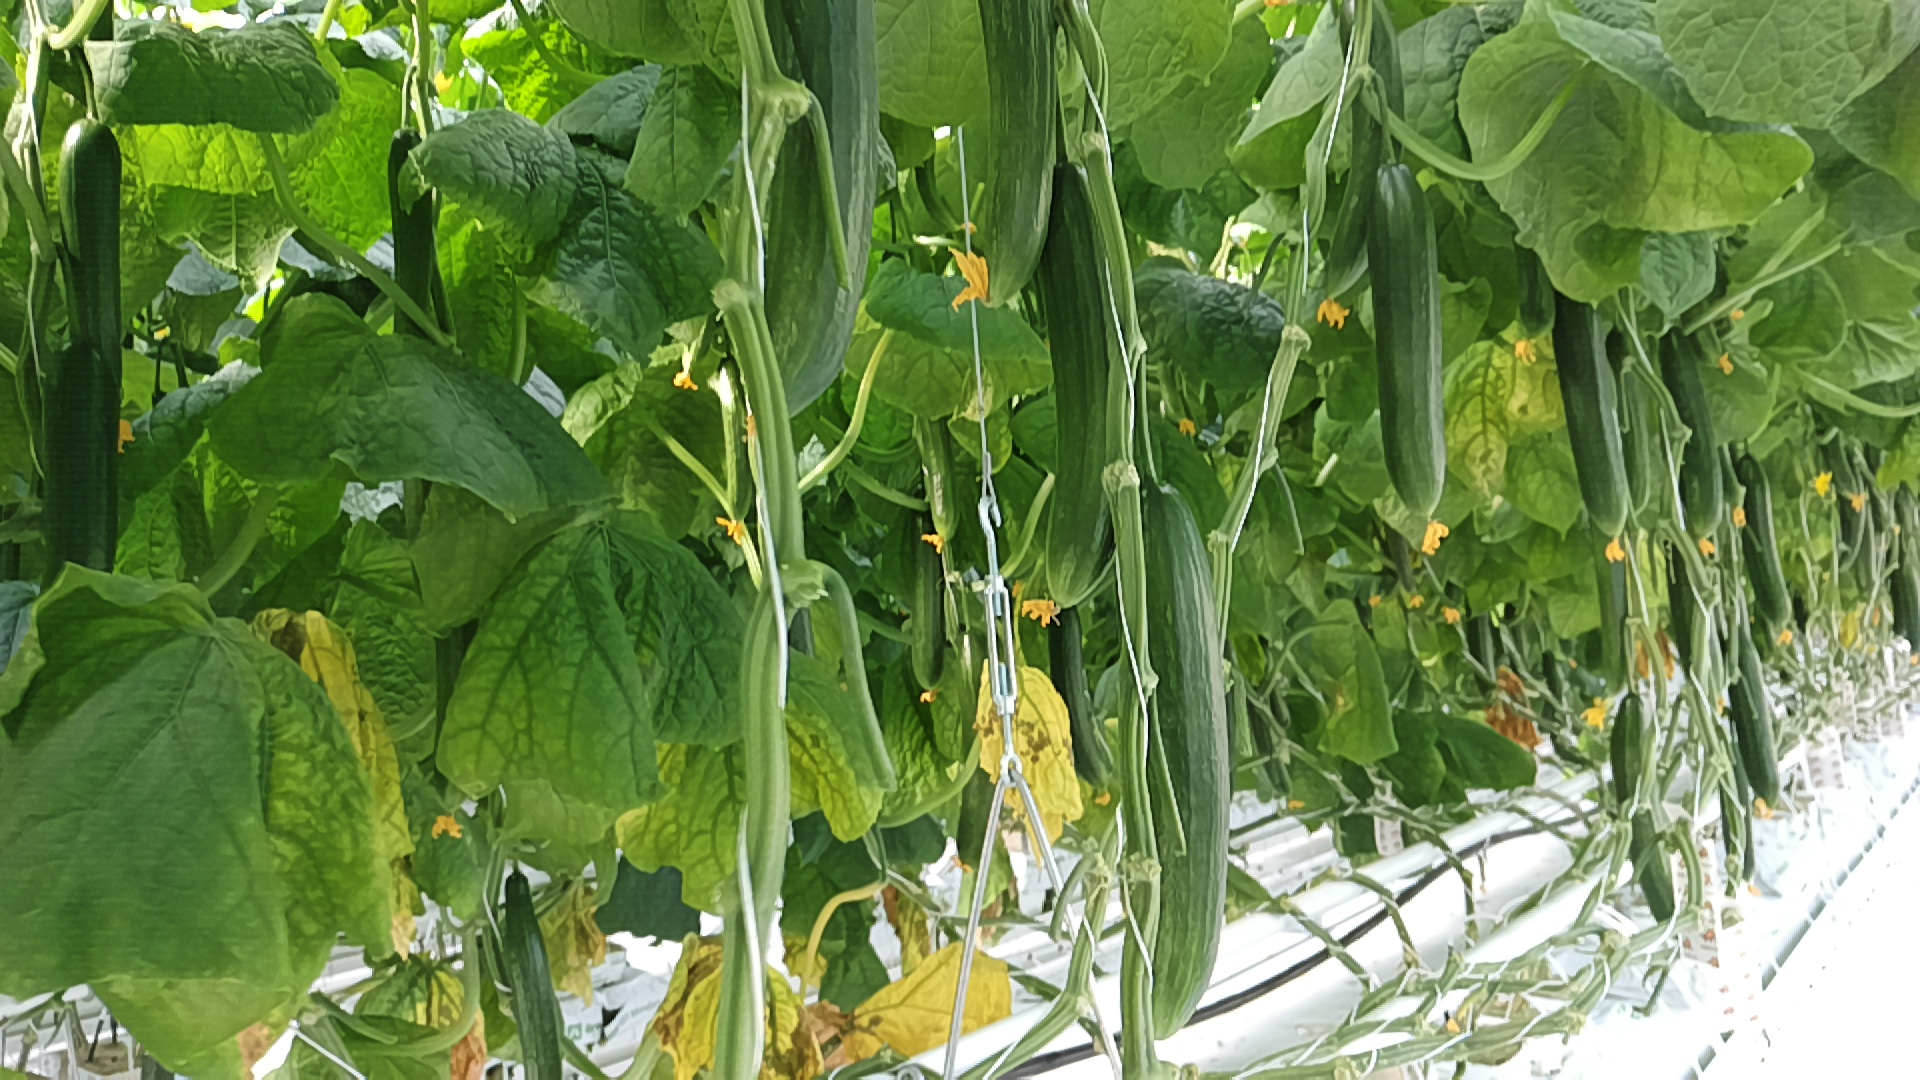gurka: (1356, 156, 1468, 533), (1535, 262, 1639, 576), (1586, 673, 1689, 924)
